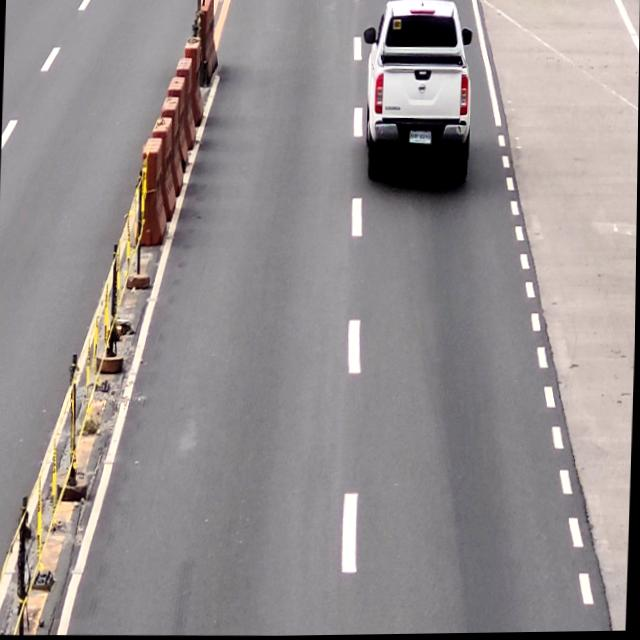Car: (360, 0, 475, 188)
License-Plate: (410, 132, 431, 147)
